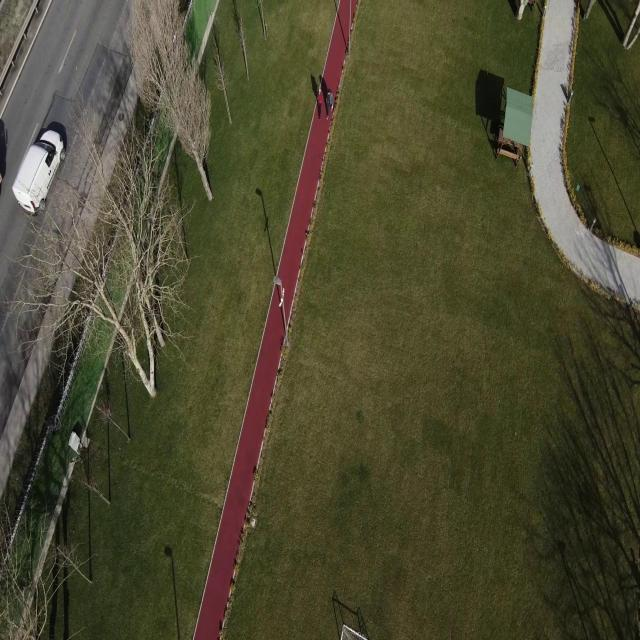p3rson: (326, 89, 333, 120), (317, 88, 323, 120)
